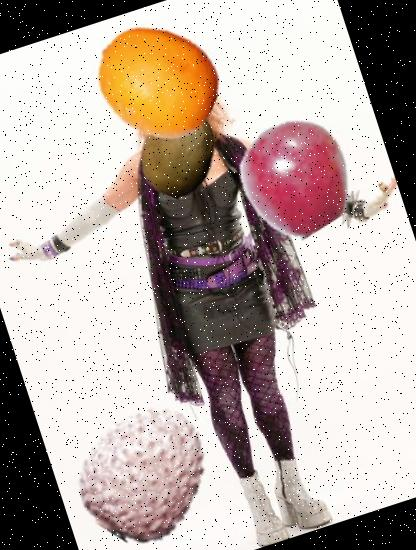Cherry: (226, 104, 370, 248)
Lemon: (78, 3, 235, 161)
Lychee: (57, 384, 232, 550)
Papaya: (121, 91, 238, 208)
